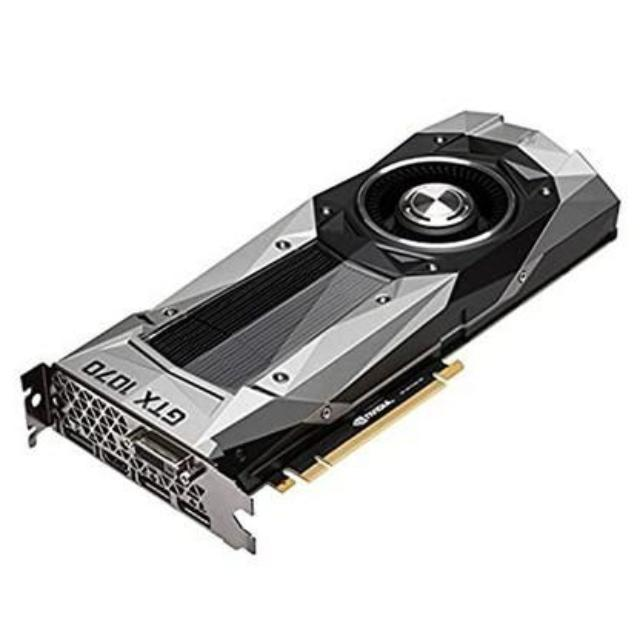GPU: (44, 103, 630, 472)
